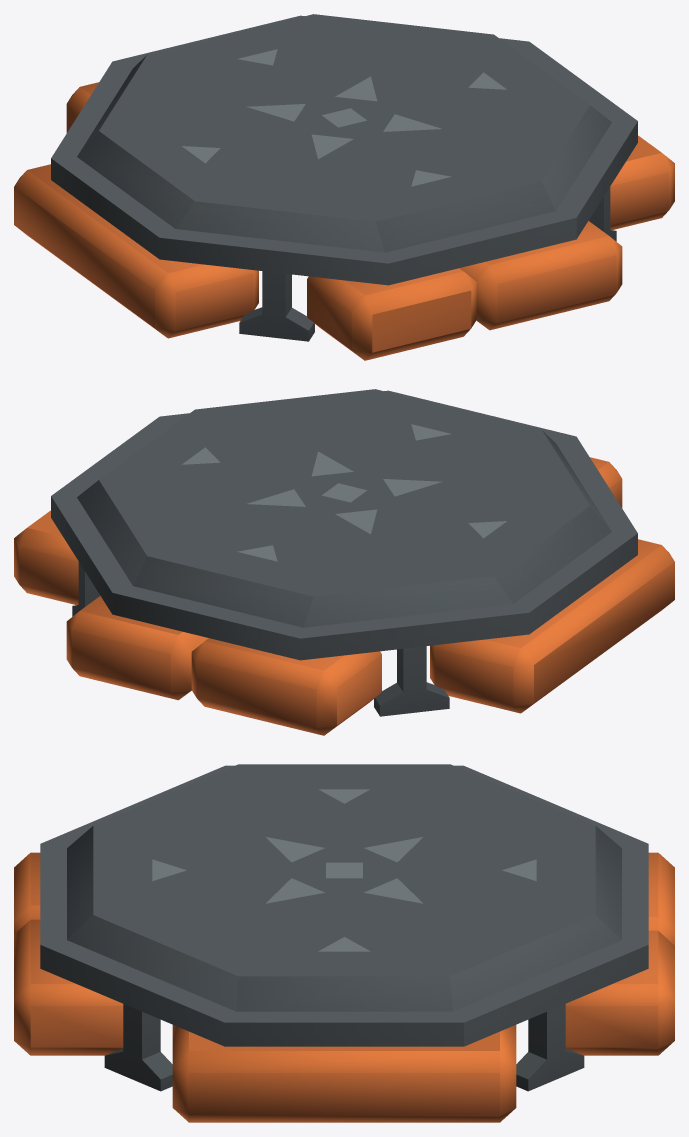
The model's file is landingpad_large.glb.
3 renders of one model, top to bottom at view 1: azimuth 30°, elevation 25°; view 2: azimuth 150°, elevation 25°; view 3: azimuth 270°, elevation 25°, orthographic. The views are drawn at different scales.
Parts seen in each view (by area): view 1: landingpad_large; view 2: landingpad_large; view 3: landingpad_large.
Boxes of the visible parts, box(x1,y1,x2,y2) form: landingpad_large: box(14, 14, 674, 360); landingpad_large: box(14, 389, 674, 735); landingpad_large: box(14, 764, 674, 1122).
Size of the model in its own units: 7.5 by 1.5 by 7.5.
Materials: 1 (1 with a texture image).
